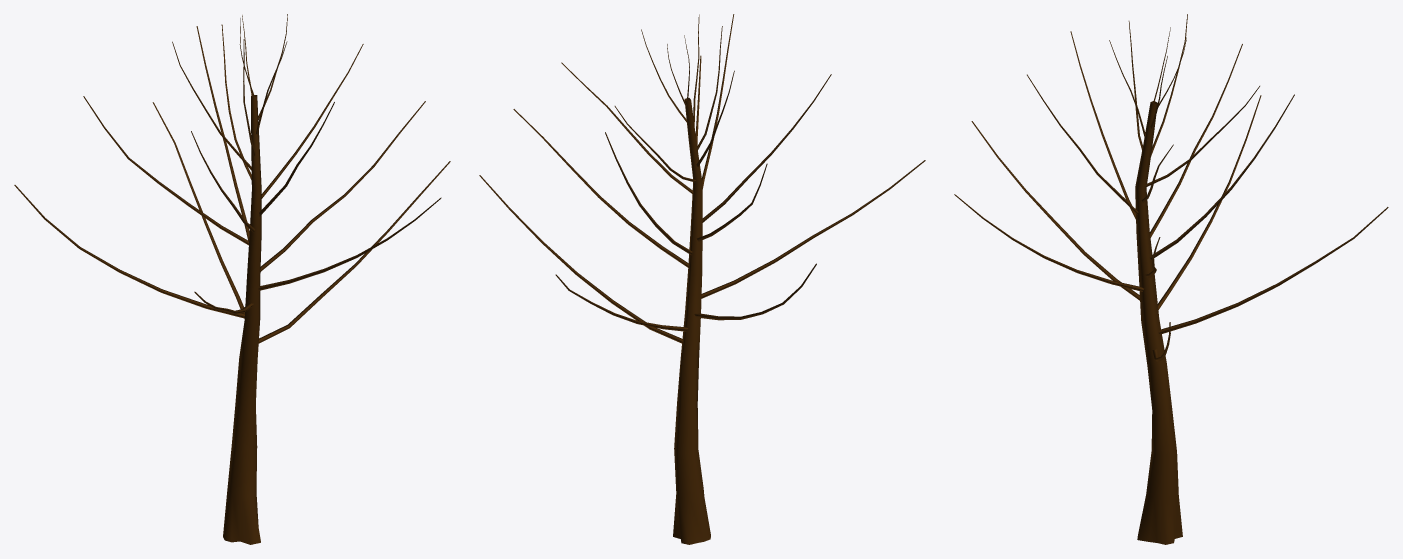
File: drzewo4.FBX
3 views of the same model, side by side, from view 1: azimuth 30°, elevation 25°; view 2: azimuth 150°, elevation 25°; view 3: azimuth 270°, elevation 25° (orthographic). The views are drawn at different scales.
Parts seen in each view (by area): view 1: drzewo; view 2: drzewo; view 3: drzewo.
Boxes of the visible parts, bbox=[...] form: drzewo: bbox=[14, 14, 450, 544]; drzewo: bbox=[479, 14, 925, 544]; drzewo: bbox=[954, 14, 1388, 544].
Size of the model in its own units: 17.74 by 17.18 by 22.29.
